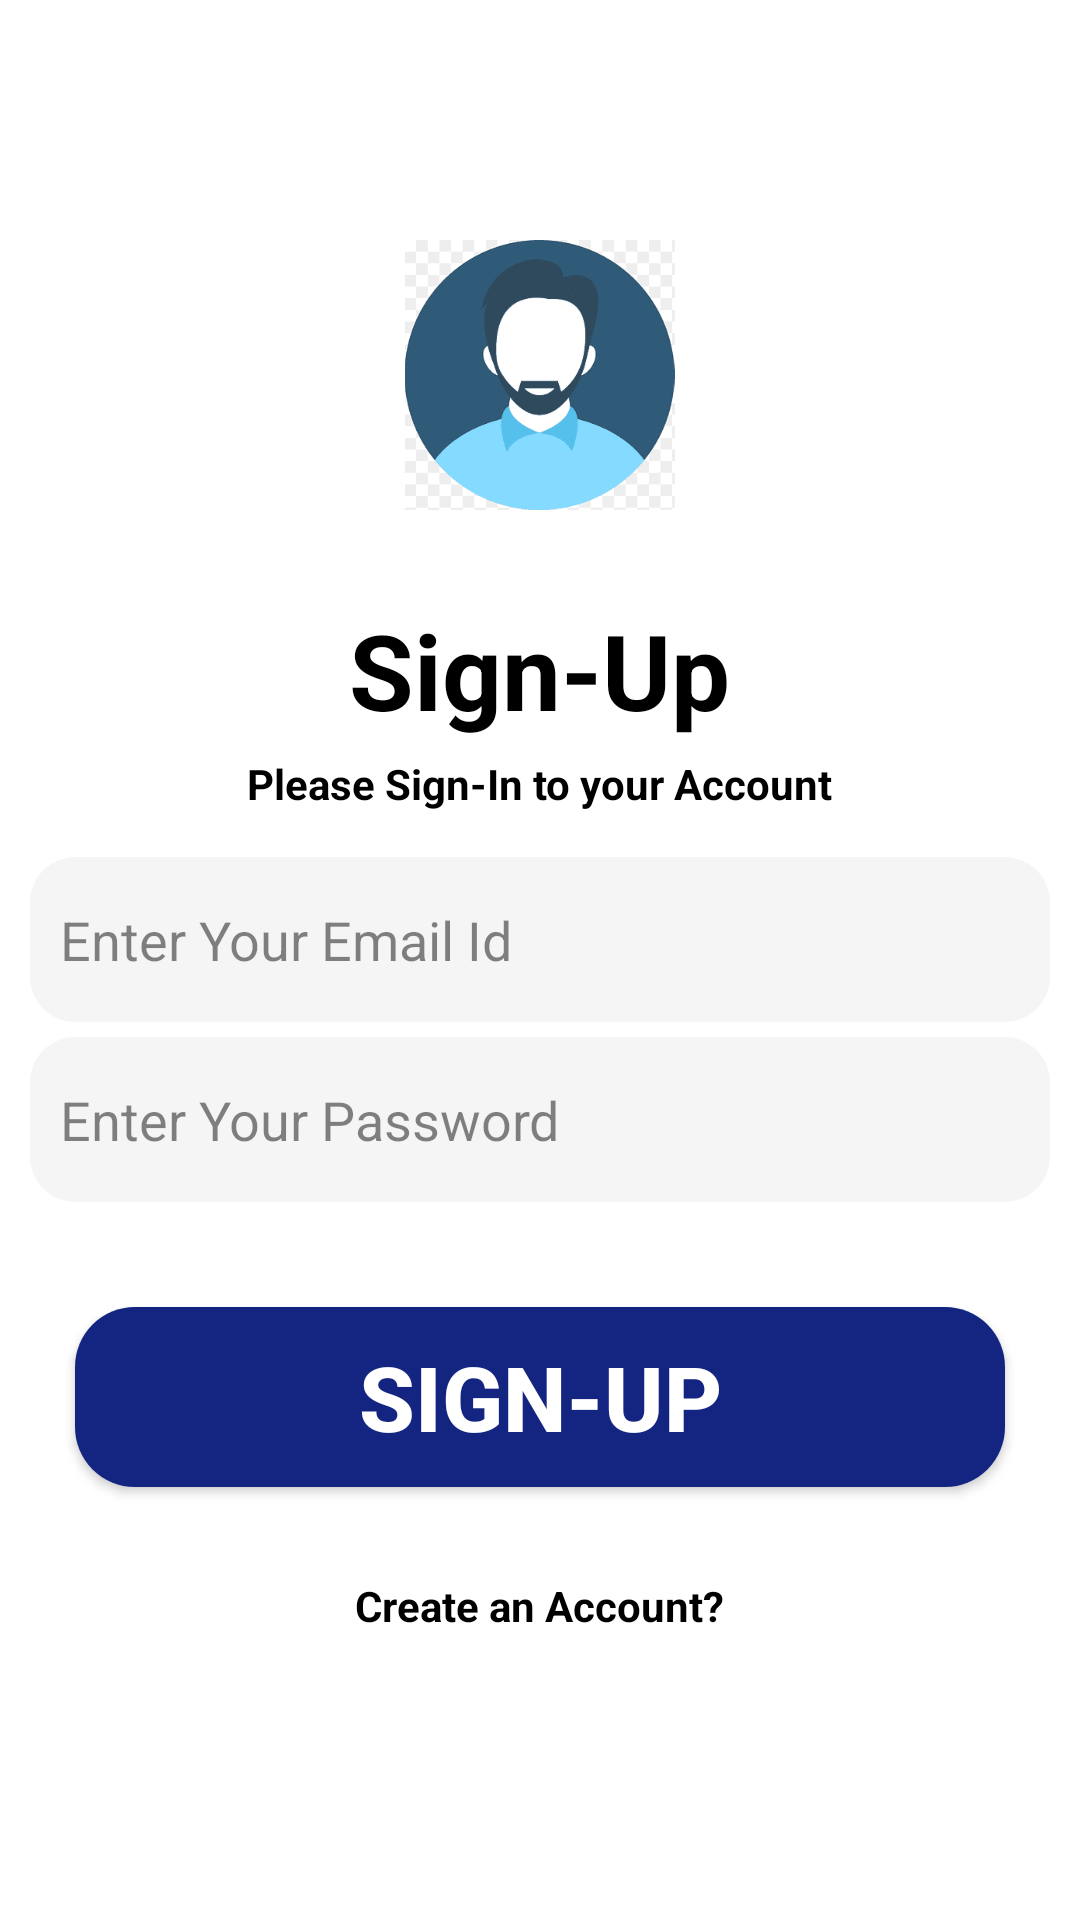

Icons on this 1080x1920 Android screen, each with its box as (x1, y1, x2, y2):
profile: (405, 240, 675, 510)
